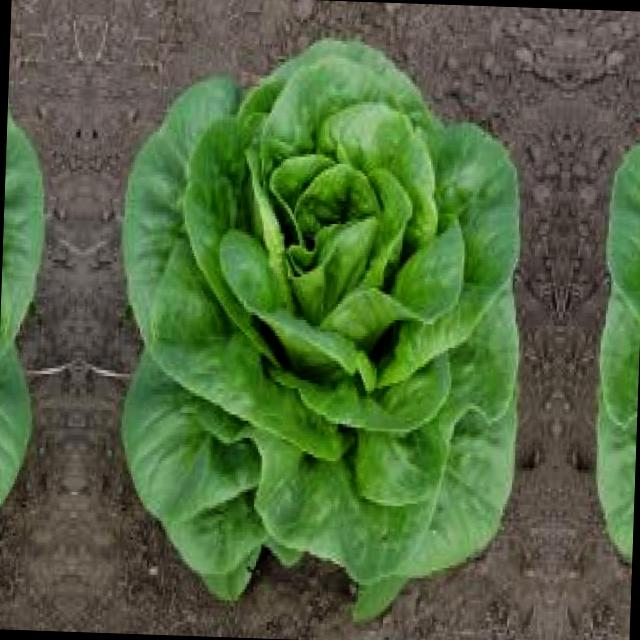healthy: (104, 27, 534, 615), (0, 23, 56, 598), (586, 44, 640, 619)
